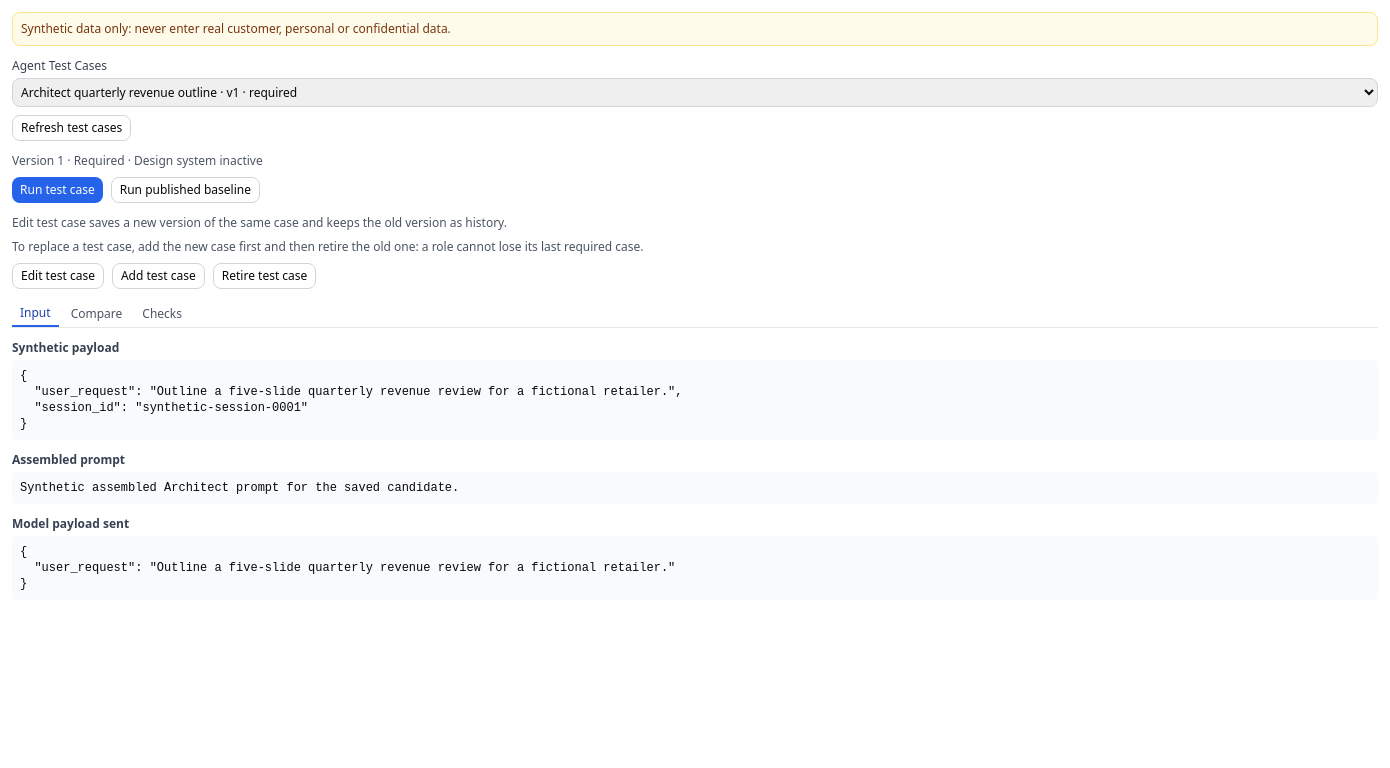
Scenario: TestRunPanel › renders a failed deterministic check by name in a failed state, with its message and issues
The image size is (1390, 768).
Click the tab "Checks".
click(162, 314)  # box [134, 301, 190, 327]
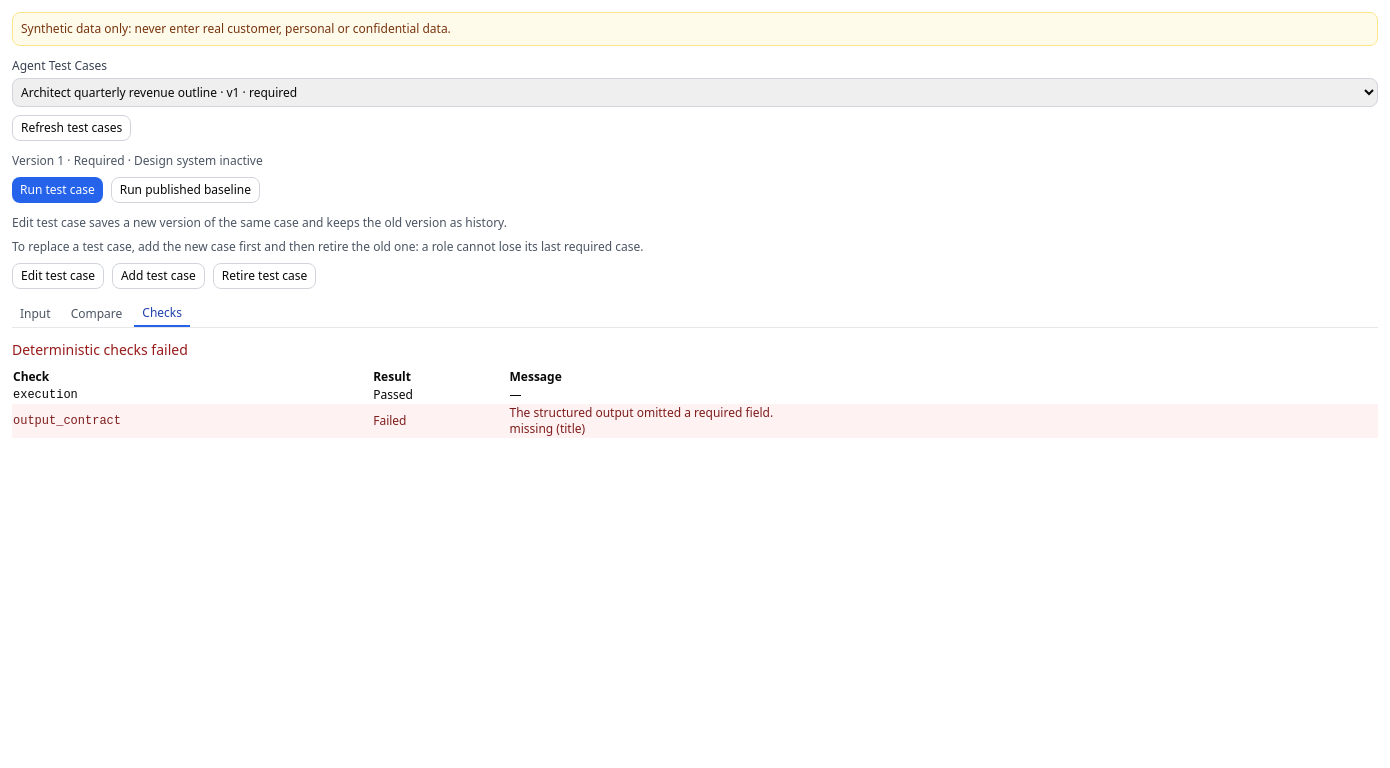
Check: the panel "checks" shows "Deterministic checks failed", box [12, 340, 188, 359]
Check: the text "Failed" is shown, box [372, 404, 508, 438]
Check: the row that starts with "output_contract" shows "The structured output omitted a required field.", box [510, 404, 773, 421]
